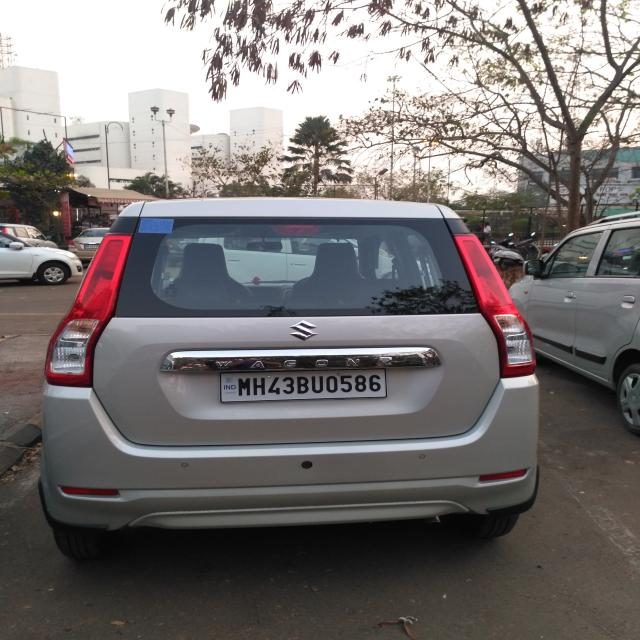Number-Plate: (224, 370, 386, 400)
